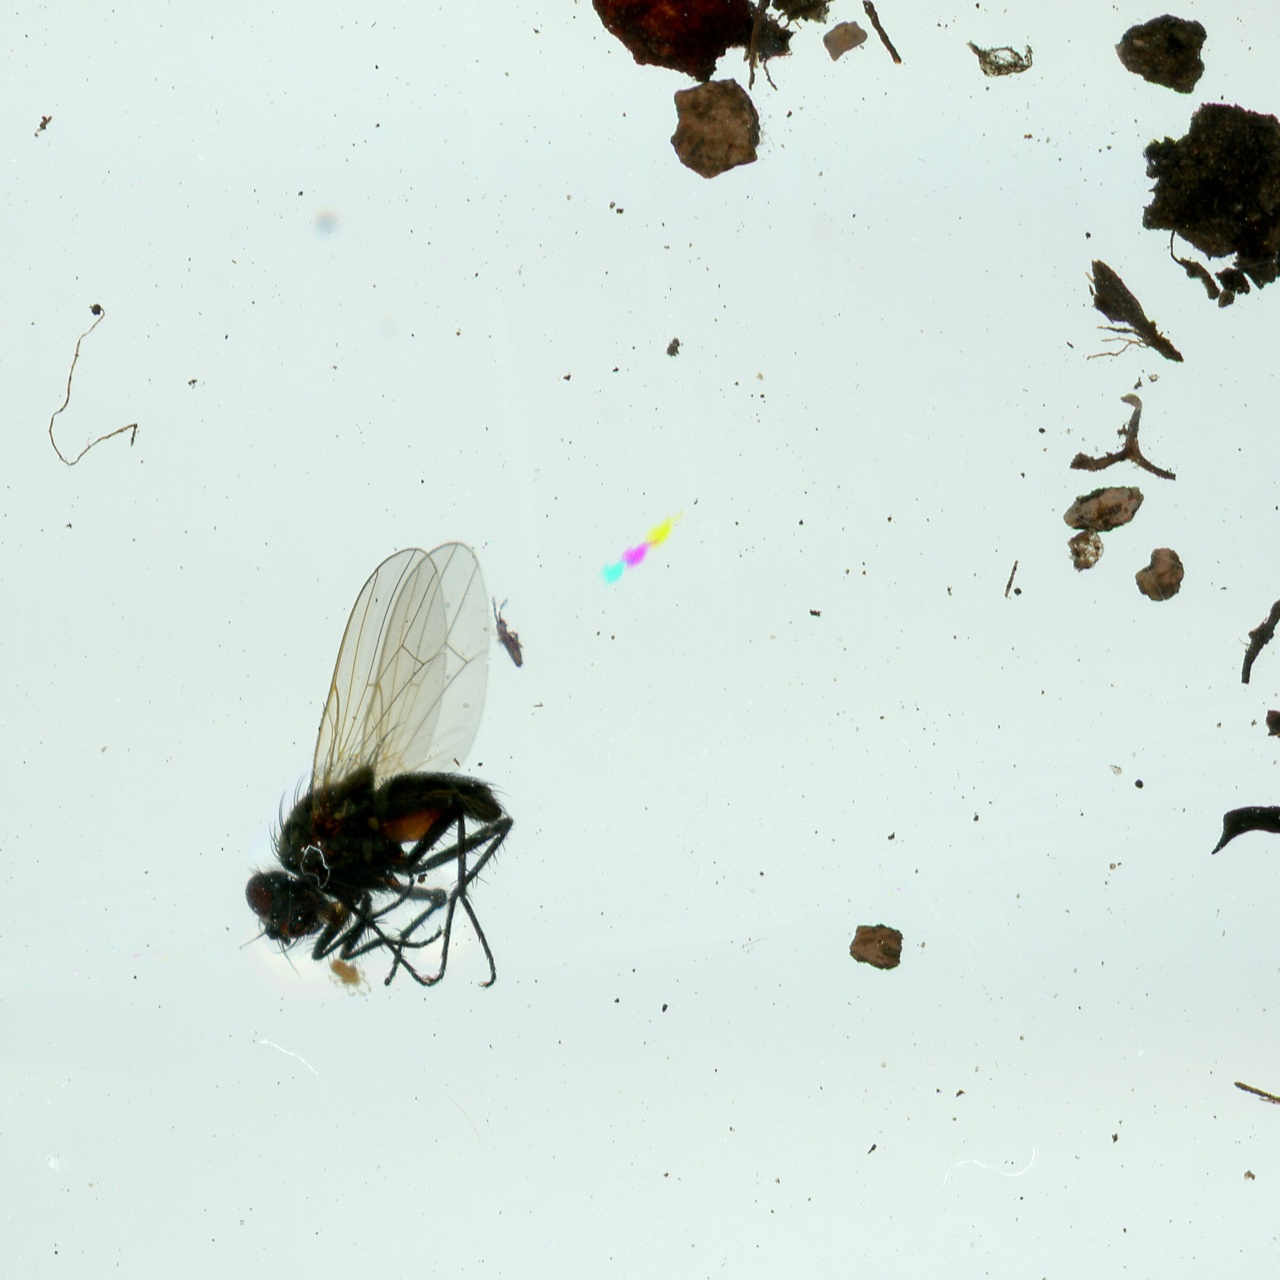arthropod: (229, 536, 525, 995), (481, 587, 536, 676), (324, 953, 376, 1001)
